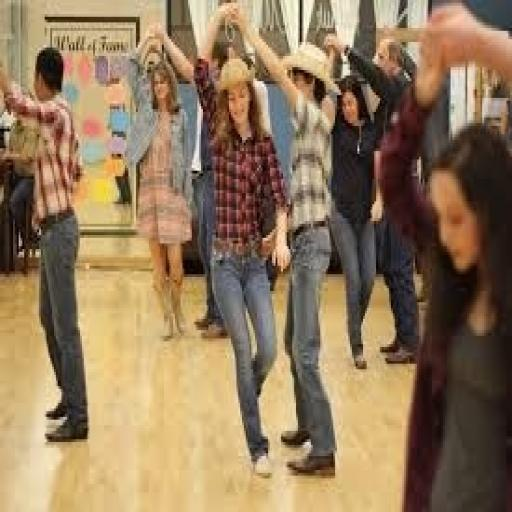dancing: (138, 38, 357, 450)
